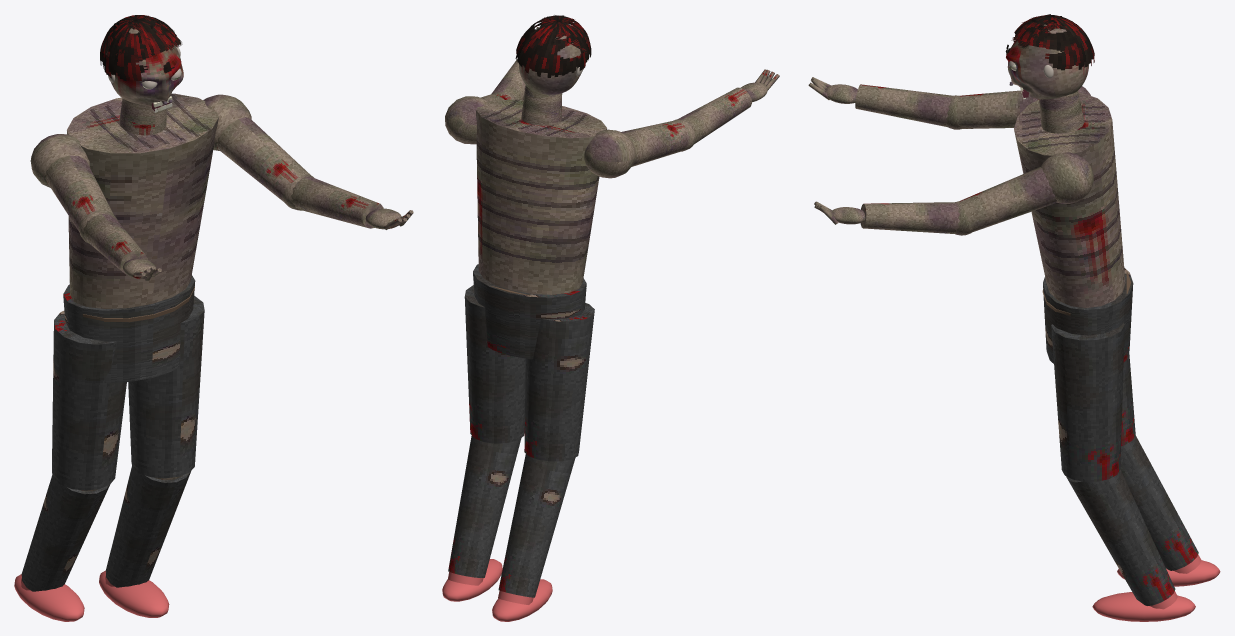
The model's file is Zombie_111.glb.
3 renders of one model, left to right at view 1: azimuth 30°, elevation 25°; view 2: azimuth 150°, elevation 25°; view 3: azimuth 270°, elevation 25°, orthographic. The views are drawn at different scales.
Visible parts, largest first — view 1: Zombie_111, object 43, object 10, object 16, object 3; view 2: Zombie_111, object 43, object 3, object 16, object 10; view 3: Zombie_111, object 16, object 10, object 3, object 43.
Part boxes in pixels (x1,y1,x2,y2): Zombie_111: (14,93,310,621); object 43: (100,15,176,78); object 10: (291,176,383,228); object 16: (106,28,183,106); object 3: (83,213,147,274); Zombie_111: (442,85,690,621); object 43: (515,15,591,76); object 3: (678,87,751,144); object 16: (519,28,583,94); object 10: (491,59,525,100); Zombie_111: (955,86,1220,621); object 16: (1006,24,1088,100); object 10: (860,202,959,233); object 3: (855,84,952,127); object 43: (1005,15,1094,67).
Bounding box in the file's own units: 0.804 × 1.77 × 1.13.
16 materials, 6 textured.
